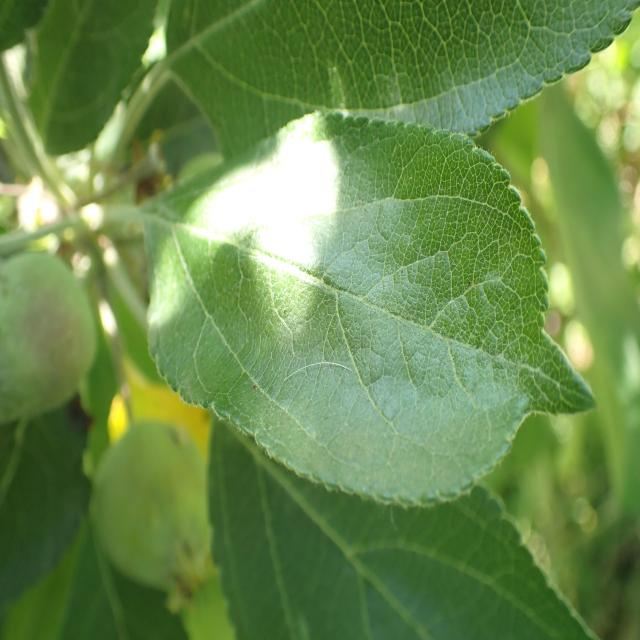healthy: (142, 108, 598, 510), (206, 418, 600, 640), (163, 0, 638, 161), (28, 0, 160, 156), (0, 246, 97, 424)
